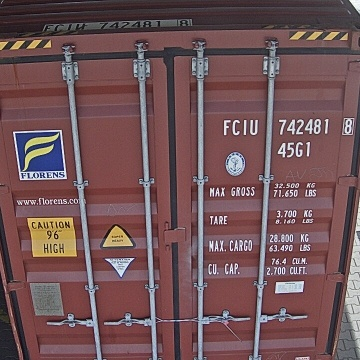serial_id: (223, 118, 354, 135)
